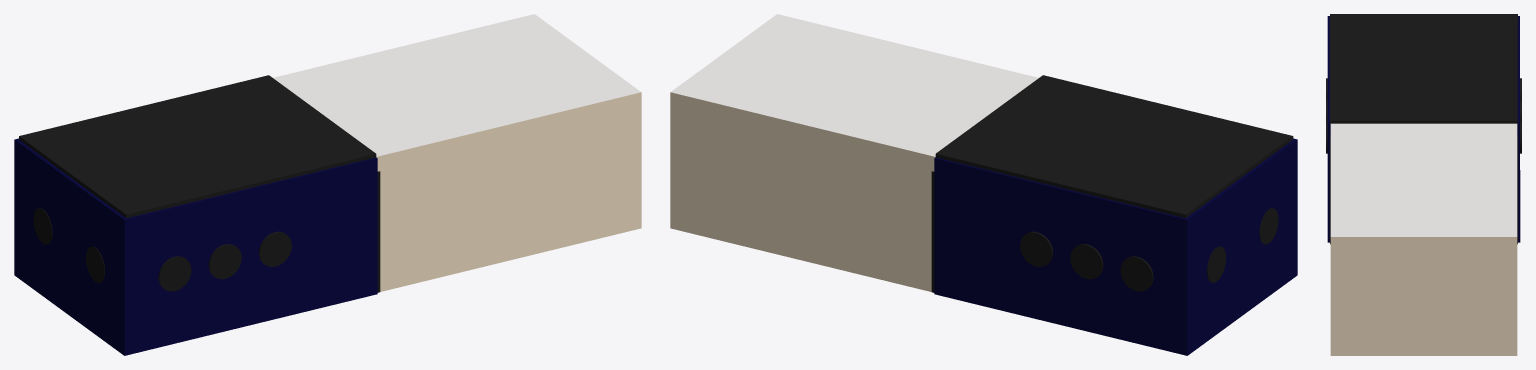
The model's file is RR Experience Room 2032.fbx.
The picture shows the model from 3 angles, left to right: view 1: azimuth 30°, elevation 25°; view 2: azimuth 150°, elevation 25°; view 3: azimuth 270°, elevation 25°; orthographic projection. The views are drawn at different scales.
Visible parts, largest first — view 1: 2032OtherHalfRepresentation.001, RectangleWalls.001, Ceiling2032.001, Fans.001, SlidingDoorFrame.001; view 2: 2032OtherHalfRepresentation.001, RectangleWalls.001, Ceiling2032.001, Fans.001, SlidingDoorFrame.001; view 3: 2032OtherHalfRepresentation.001, Ceiling2032.001, RectangleWalls.001, Fans.001, SlidingDoorFrame.001.
Boxes of the visible parts, x1,y1,x2,y2 form: 2032OtherHalfRepresentation.001: (273,14,641,291); RectangleWalls.001: (14,138,377,355); Ceiling2032.001: (19,75,376,218); Fans.001: (33,208,291,291); SlidingDoorFrame.001: (377,171,380,292); 2032OtherHalfRepresentation.001: (670,14,1038,291); RectangleWalls.001: (934,138,1297,355); Ceiling2032.001: (935,75,1293,218); Fans.001: (1020,208,1278,291); SlidingDoorFrame.001: (931,171,934,292); 2032OtherHalfRepresentation.001: (1330,123,1517,355); Ceiling2032.001: (1330,14,1517,123); RectangleWalls.001: (1327,16,1520,242); Fans.001: (1326,78,1521,153); SlidingDoorFrame.001: (1330,137,1517,244).
Size of the model in its own units: 1034 by 267 by 386.
